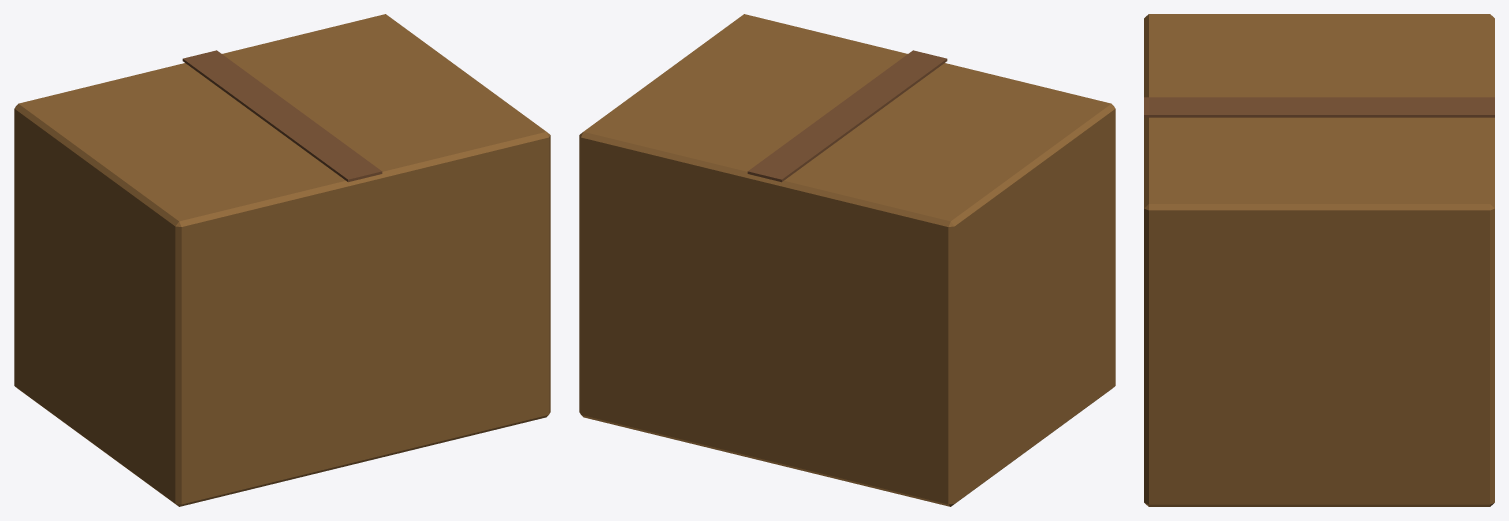
The model's file is BoxLarge.fbx.
3 views of the same model, side by side, from view 1: azimuth 30°, elevation 25°; view 2: azimuth 150°, elevation 25°; view 3: azimuth 270°, elevation 25° (orthographic). The views are drawn at different scales.
Parts seen in each view (by area): view 1: BoxLarge; view 2: BoxLarge; view 3: BoxLarge.
Part boxes in pixels (x1,y1,x2,y2): BoxLarge: (14,14,550,506); BoxLarge: (579,14,1115,506); BoxLarge: (1144,14,1494,506).
Size of the model in its own units: 77 by 56.53 by 58.8.
1 material, 1 textured.
